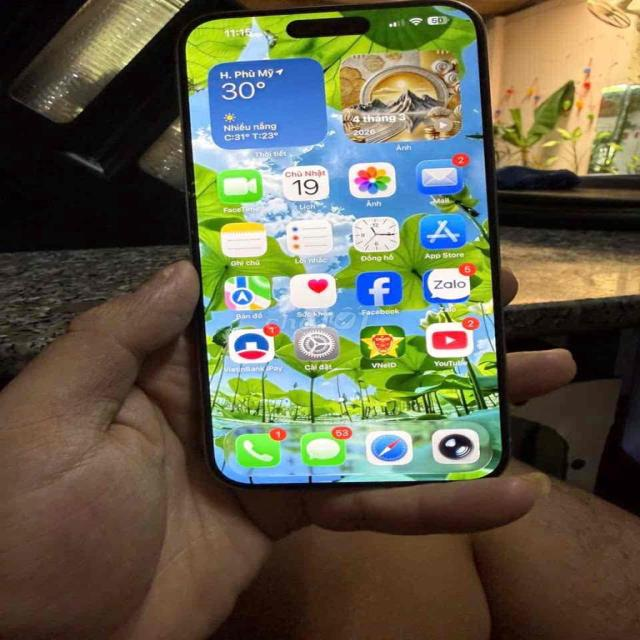gen_15: (167, 0, 509, 497)
